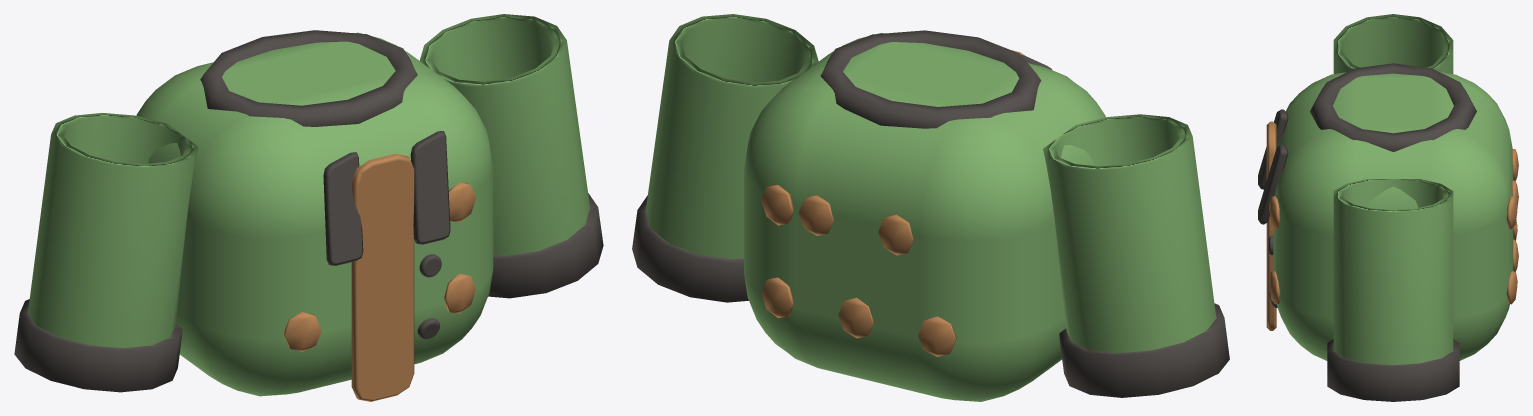
The model's file is camo_bomber_style_jacket.glb.
The picture shows the model from 3 angles, left to right: view 1: azimuth 30°, elevation 25°; view 2: azimuth 150°, elevation 25°; view 3: azimuth 270°, elevation 25°; orthographic projection. The views are drawn at different scales.
Parts seen in each view (by area): view 1: camo_bomber_style_jacket_Body, camo_bomber_style_jacket_ArmL, camo_bomber_style_jacket_ArmR; view 2: camo_bomber_style_jacket_Body, camo_bomber_style_jacket_ArmL, camo_bomber_style_jacket_ArmR; view 3: camo_bomber_style_jacket_Body, camo_bomber_style_jacket_ArmR, camo_bomber_style_jacket_ArmL.
Part boxes in pixels (left/top/right/bottom): camo_bomber_style_jacket_Body: left=136, top=30, right=493, bottom=401; camo_bomber_style_jacket_ArmL: left=14, top=113, right=198, bottom=392; camo_bomber_style_jacket_ArmR: left=419, top=14, right=603, bottom=298; camo_bomber_style_jacket_Body: left=744, top=30, right=1105, bottom=401; camo_bomber_style_jacket_ArmL: left=1043, top=114, right=1229, bottom=397; camo_bomber_style_jacket_ArmR: left=632, top=14, right=818, bottom=302; camo_bomber_style_jacket_Body: left=1258, top=63, right=1518, bottom=360; camo_bomber_style_jacket_ArmR: left=1327, top=179, right=1459, bottom=401; camo_bomber_style_jacket_ArmL: left=1333, top=14, right=1453, bottom=73.
Size of the model in its own units: 0.6504 by 0.3119 by 0.3151.
